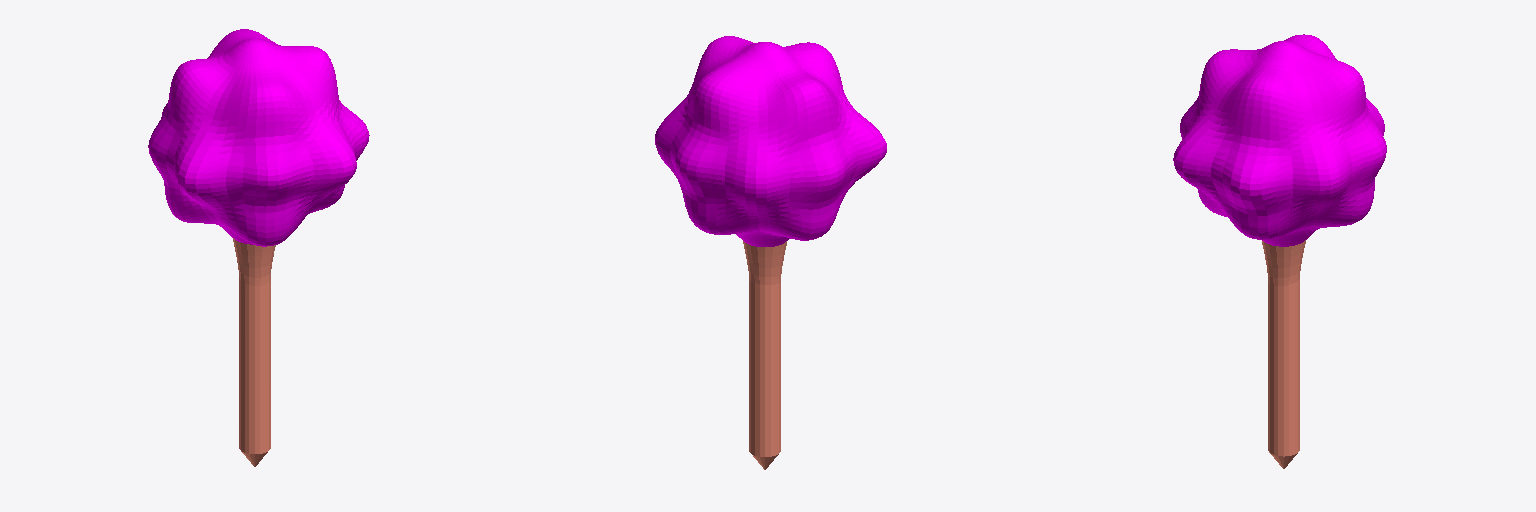
The model's file is stick2.obj.
3 renders of one model, left to right at view 1: azimuth 30°, elevation 25°; view 2: azimuth 150°, elevation 25°; view 3: azimuth 270°, elevation 25°, orthographic.
Visible parts, largest first — view 1: pasted__pSphere1 group18, pCylinder1; view 2: pasted__pSphere1 group18, pCylinder1; view 3: pasted__pSphere1 group18, pCylinder1.
Boxes of the visible parts, x1,y1,x2,y2 form: pasted__pSphere1 group18: [148, 29, 369, 246]; pCylinder1: [233, 238, 275, 466]; pasted__pSphere1 group18: [655, 36, 886, 246]; pCylinder1: [743, 241, 786, 469]; pasted__pSphere1 group18: [1173, 34, 1386, 246]; pCylinder1: [1262, 240, 1305, 468].
Size of the model in its own units: 2.49 by 5.25 by 2.38.